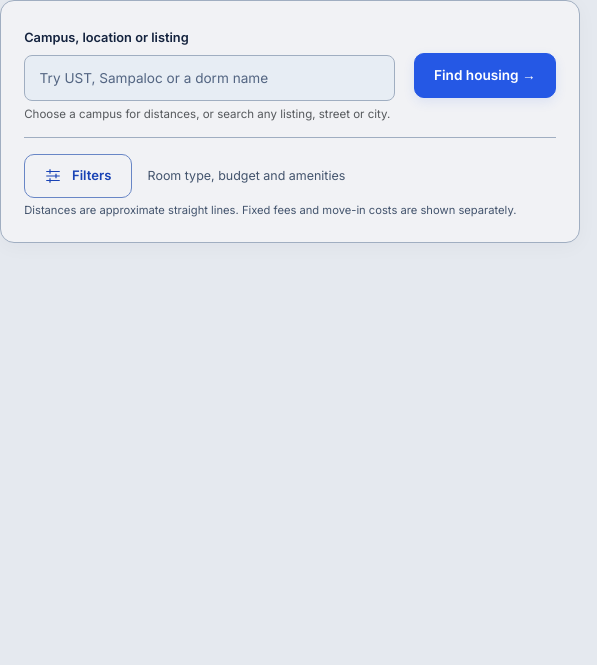
Scenario: shared housing search › requires an explicit price basis for a budget and carries exact costs and preferences into results
Later steps or results of the test are not shown.
In the dropdown labelled "Campus, location or listing": (209, 78) [24,55,395,101], type "TIP Manila"
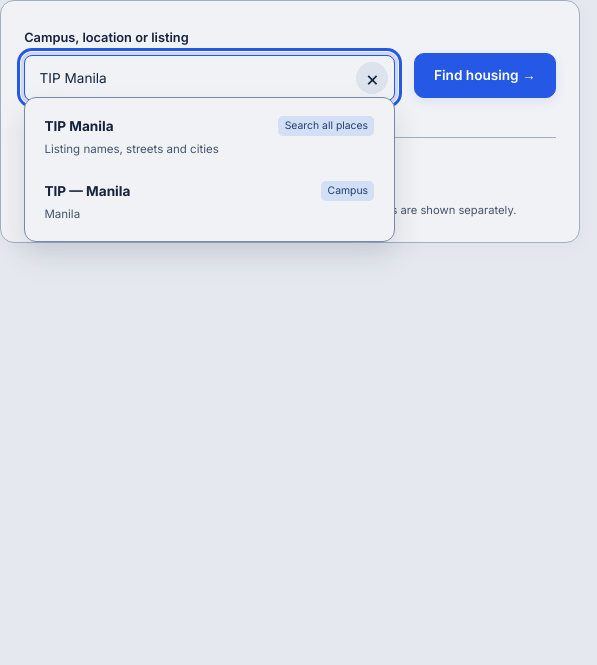
Click the button "Campus TIP — Manila Manila": (348, 191) [32,169,387,234]
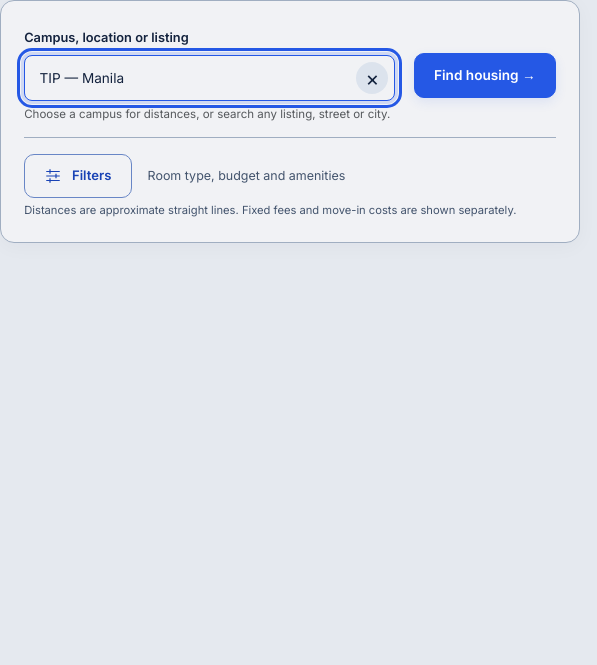
Click the button "Filters": (78, 176) [24,154,132,198]
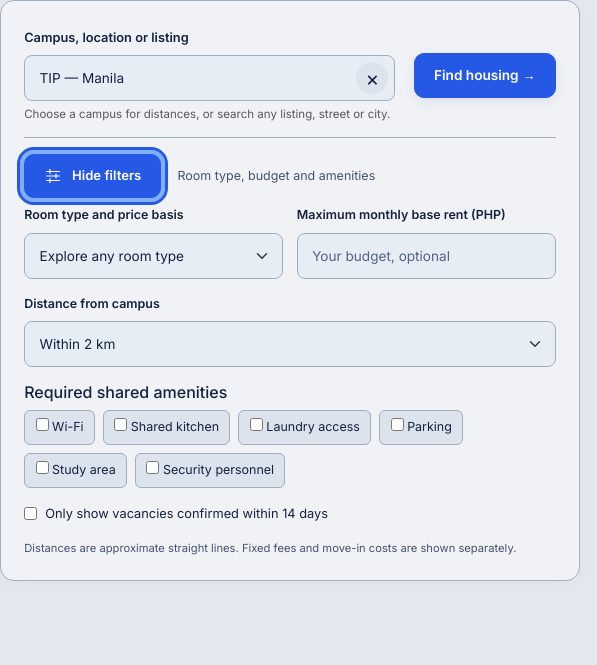
In the field labelled "Maximum monthly base rent (PHP)": (426, 256) [297,233,556,278], type "6000.29"
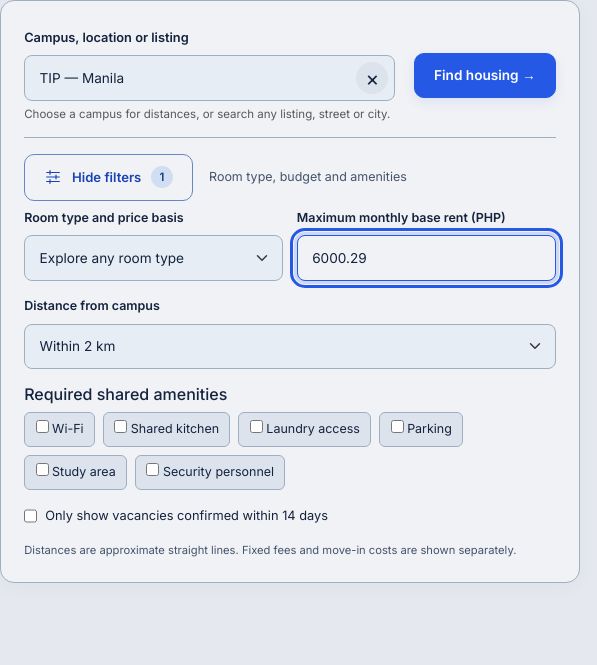
Click the button "Find housing →": (485, 75) [414,53,556,98]
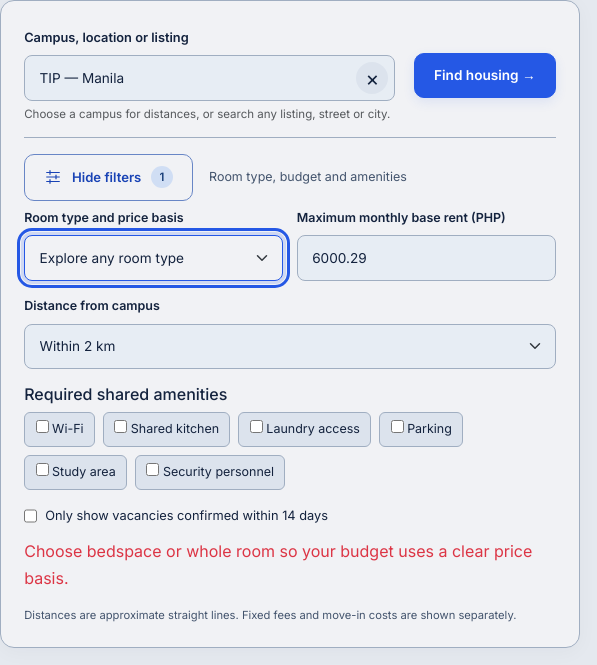
Now the message shows "clear price basis", box [24,541,532,588]
